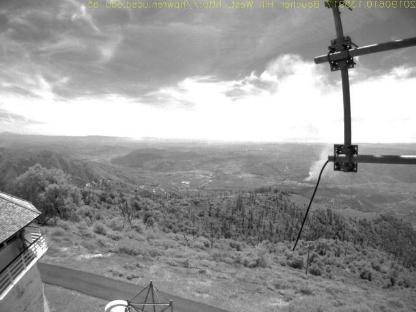smoke: (306, 142, 332, 182)
